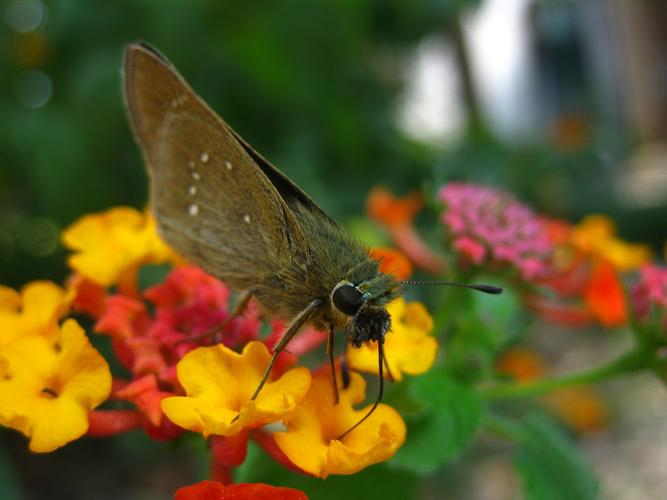Hesperiidae: (121, 38, 507, 409)
